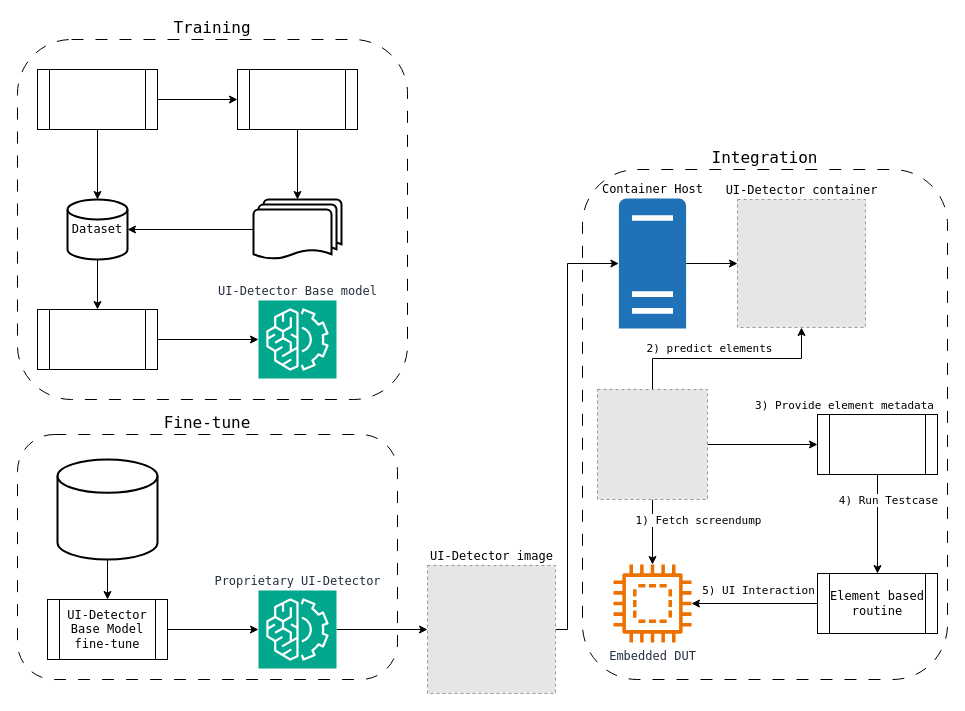
This 965x711 diagram has some shape labels left out. Grey dashed boxes stand in for pictures. The box of each missing label's shape, as (x1, y1, x2, y2) in pixels:
Images + Labels: (252, 198, 342, 260)
LVGL UI Generator: (236, 68, 358, 130)
Proprietary UI screenshots: (56, 458, 158, 560)
UI Randomizer: (36, 68, 158, 130)
UI Testcase: (816, 414, 938, 474)
YOLOv8 Model training: (36, 308, 158, 370)
